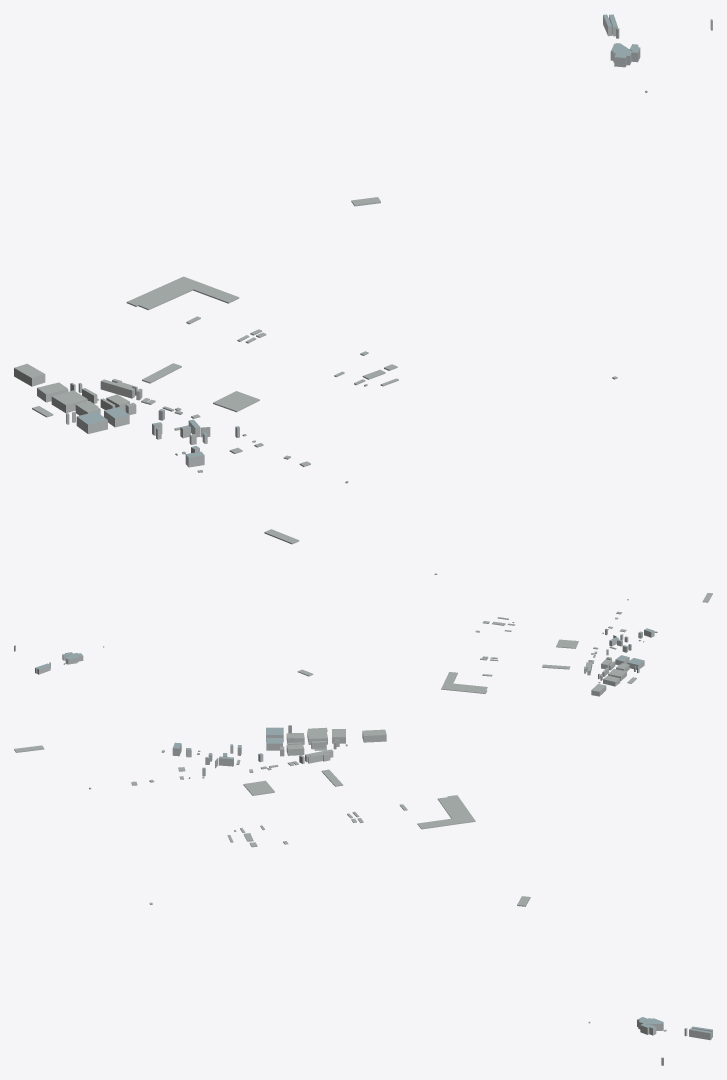
The picture shows the model from 3 angles, top to bottom: view 1: azimuth 30°, elevation 25°; view 2: azimuth 150°, elevation 25°; view 3: azimuth 270°, elevation 25°; orthographic projection. The views are drawn at different scales.
Visible parts, largest first — view 1: 上海全域建筑分块 · mapped building neighborhood; view 2: 上海全域建筑分块 · mapped building neighborhood; view 3: 上海全域建筑分块 · mapped building neighborhood.
Boxes of the visible parts, left/top/right/bottom form: 上海全域建筑分块 · mapped building neighborhood: left=14, top=14, right=712, bottom=544; 上海全域建筑分块 · mapped building neighborhood: left=14, top=573, right=712, bottom=696; 上海全域建筑分块 · mapped building neighborhood: left=14, top=725, right=712, bottom=1065.
Bounding box in the file's own units: 1910 × 20.89 × 1673.
